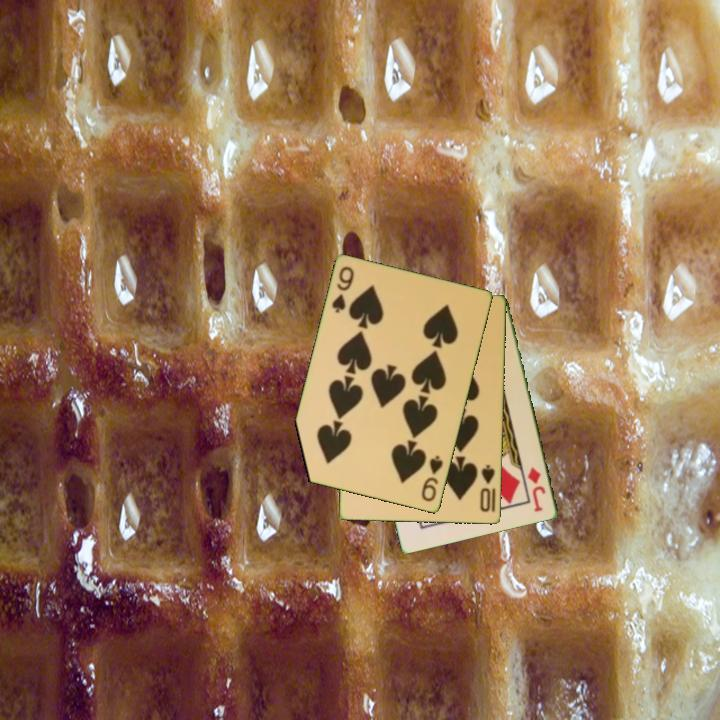10s: (477, 462, 498, 515)
9s: (328, 263, 357, 316), (418, 452, 446, 505)
Jd: (524, 464, 549, 515)
